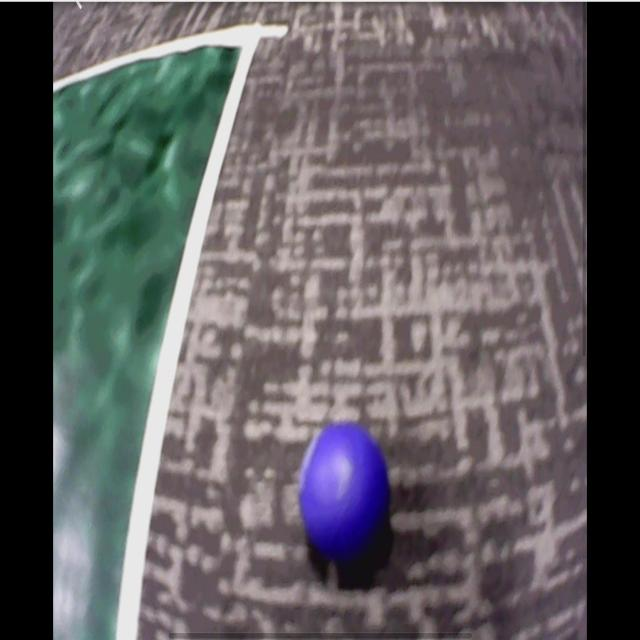ball: (302, 422, 390, 560)
